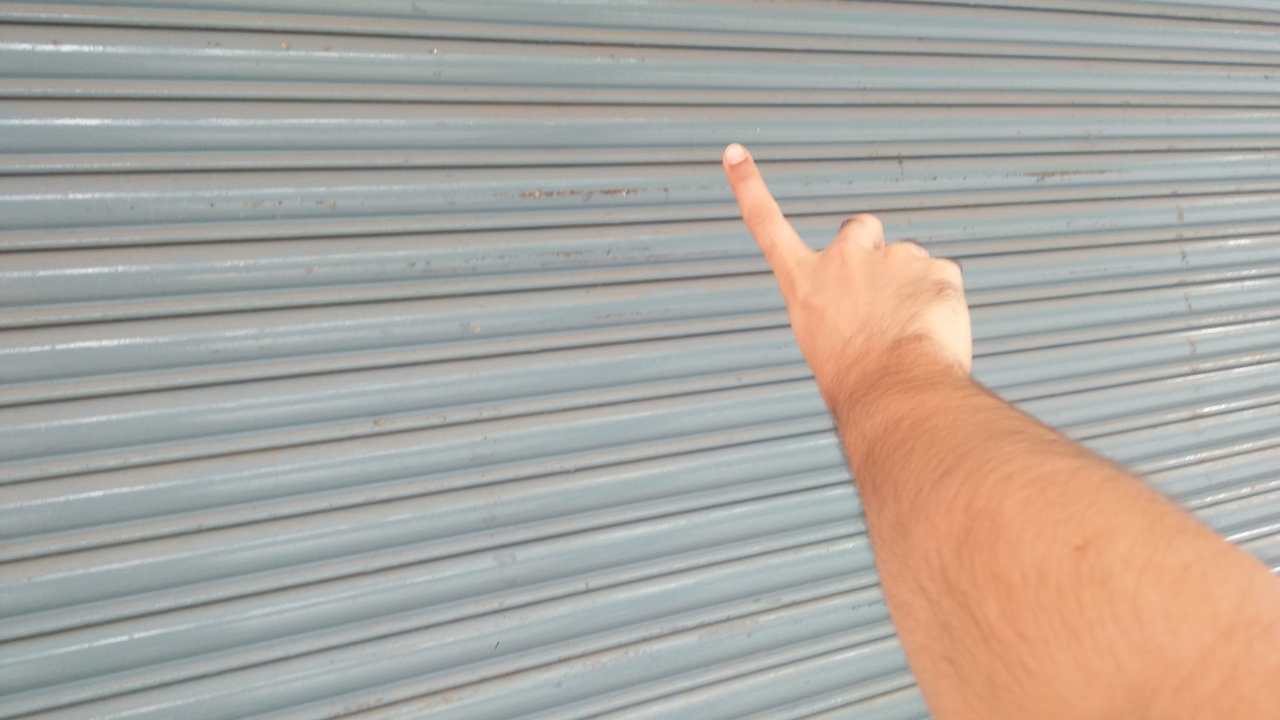fingertip: (714, 132, 768, 182)
